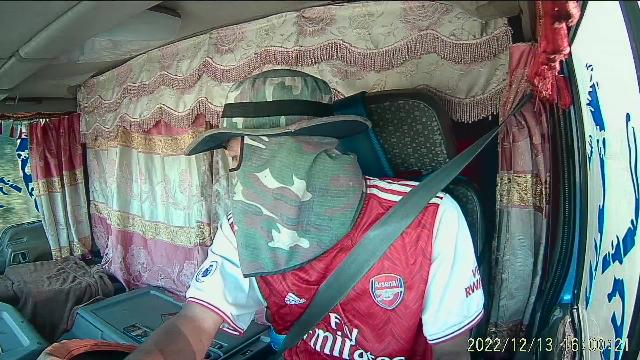Seatbelt: (286, 144, 489, 352)
